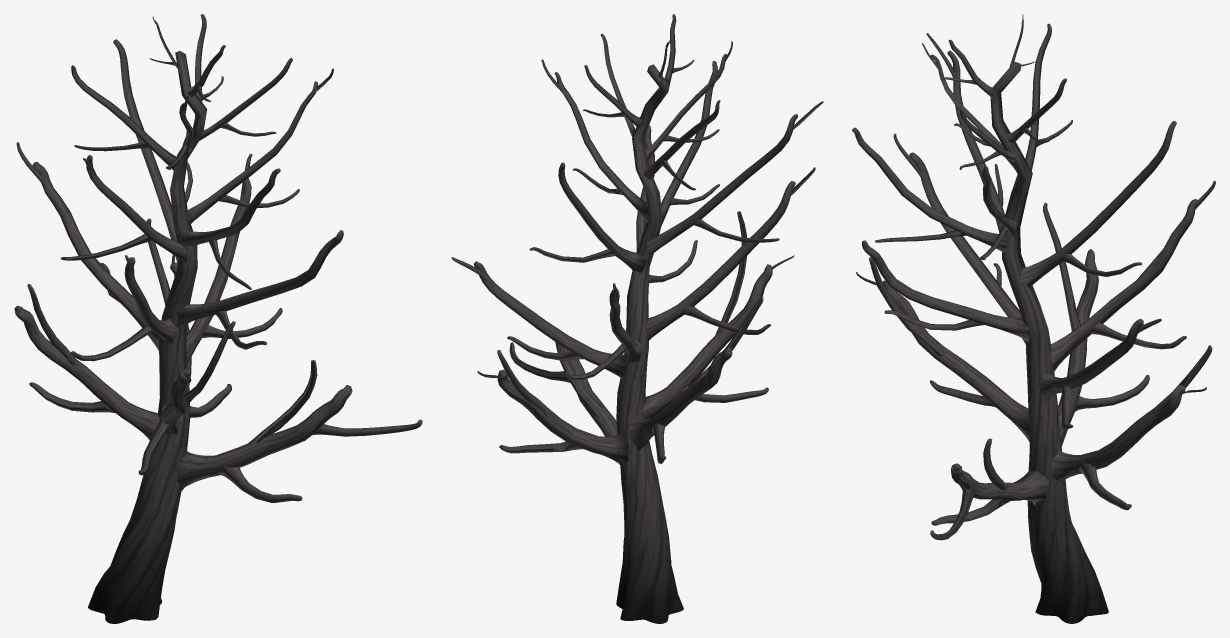
The model's file is dead_2.glb.
3 renders of one model, left to right at view 1: azimuth 30°, elevation 25°; view 2: azimuth 150°, elevation 25°; view 3: azimuth 270°, elevation 25°, orthographic. The views are drawn at different scales.
Visible parts, largest first — view 1: DeadTree_2; view 2: DeadTree_2; view 3: DeadTree_2.
Boxes of the visible parts, bbox=[...] form: DeadTree_2: bbox=[14, 14, 422, 623]; DeadTree_2: bbox=[451, 14, 823, 623]; DeadTree_2: bbox=[852, 14, 1215, 623].
Size of the model in its own units: 6.73 by 11.49 by 6.38.
Materials: 1 (1 with a texture image).
